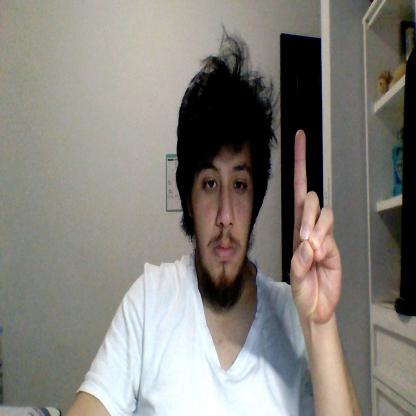D: (290, 130, 340, 320)
